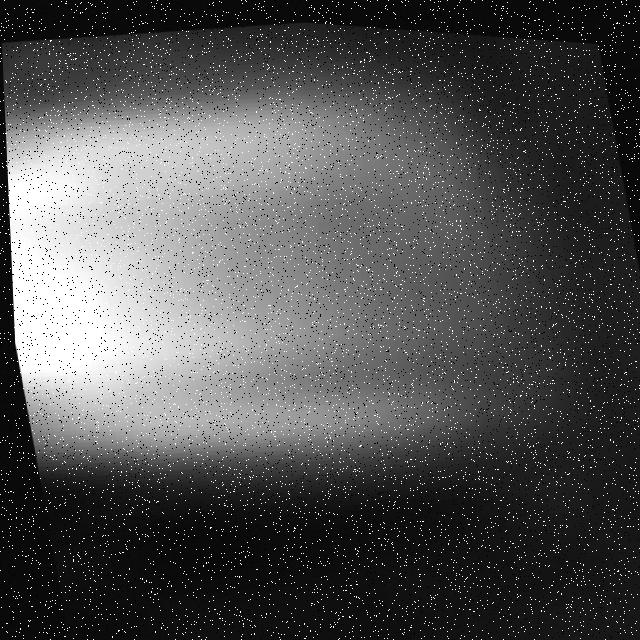person: (2, 19, 574, 534)
